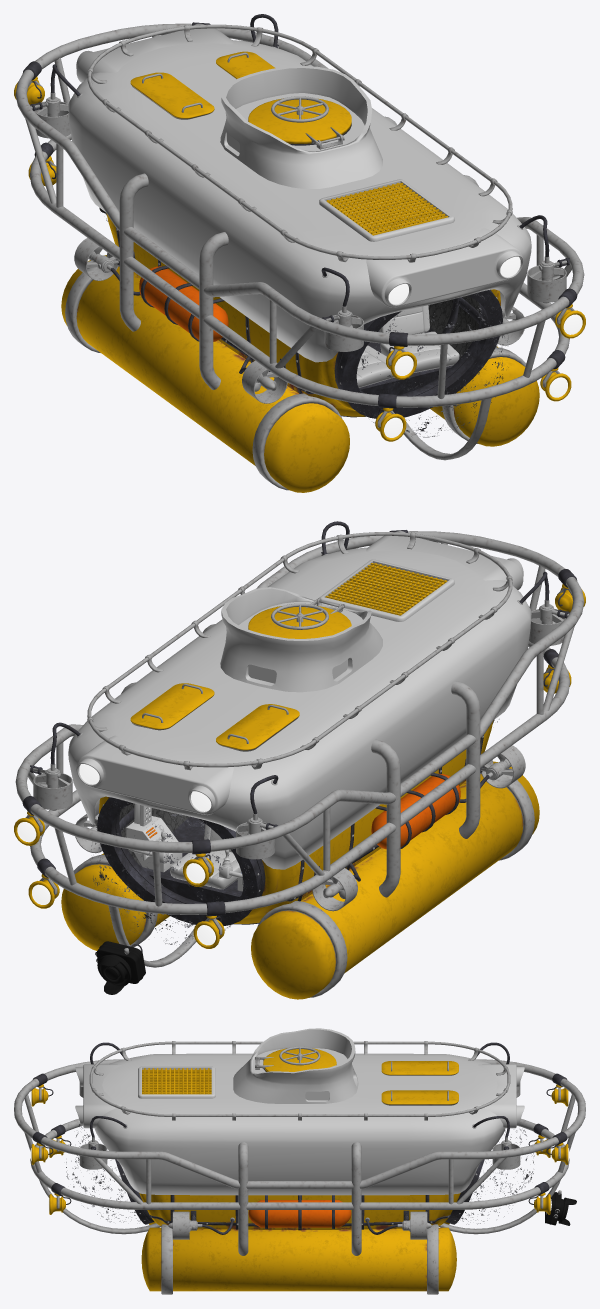
File: AtlanticExplorer.fbx
3 views of the same model, one above another, from view 1: azimuth 30°, elevation 25°; view 2: azimuth 150°, elevation 25°; view 3: azimuth 270°, elevation 25° (orthographic). The views are drawn at different scales.
Visible parts, largest first — view 1: UpperHull.001, OutsideDetails02.001, LowerHull.001, OutsideDetails01.001, InnerHull.001, Interior.001, Lights.002, Transparency.002; view 2: UpperHull.001, OutsideDetails02.001, LowerHull.001, OutsideDetails01.001, InnerHull.001, Interior.001, Lights.002, Transparency.002; view 3: UpperHull.001, LowerHull.001, OutsideDetails02.001, OutsideDetails01.001, InnerHull.001, Transparency.002.
Boxes of the visible parts, left/top/right/bottom form: UpperHull.001: left=68, top=23, right=531, bottom=362; OutsideDetails02.001: left=15, top=22, right=584, bottom=490; LowerHull.001: left=61, top=51, right=539, bottom=492; OutsideDetails01.001: left=14, top=14, right=585, bottom=441; InnerHull.001: left=105, top=124, right=502, bottom=418; Interior.001: left=356, top=305, right=459, bottom=387; Lights.002: left=384, top=256, right=582, bottom=437; Transparency.002: left=102, top=210, right=509, bottom=437; UpperHull.001: left=68, top=531, right=531, bottom=869; OutsideDetails02.001: left=15, top=530, right=584, bottom=997; LowerHull.001: left=61, top=563, right=539, bottom=999; OutsideDetails01.001: left=14, top=521, right=585, bottom=994; InnerHull.001: left=97, top=720, right=494, bottom=925; Interior.001: left=126, top=803, right=243, bottom=891; Lights.002: left=17, top=764, right=215, bottom=945; Transparency.002: left=90, top=719, right=499, bottom=944; UpperHull.001: left=75, top=1028, right=524, bottom=1195; LowerHull.001: left=139, top=1061, right=460, bottom=1291; OutsideDetails02.001: left=14, top=1041, right=585, bottom=1294; OutsideDetails01.001: left=31, top=1041, right=576, bottom=1239; InnerHull.001: left=115, top=1069, right=484, bottom=1224; Transparency.002: left=66, top=1124, right=534, bottom=1224.
Size of the model in its own units: 324 by 328 by 811.
